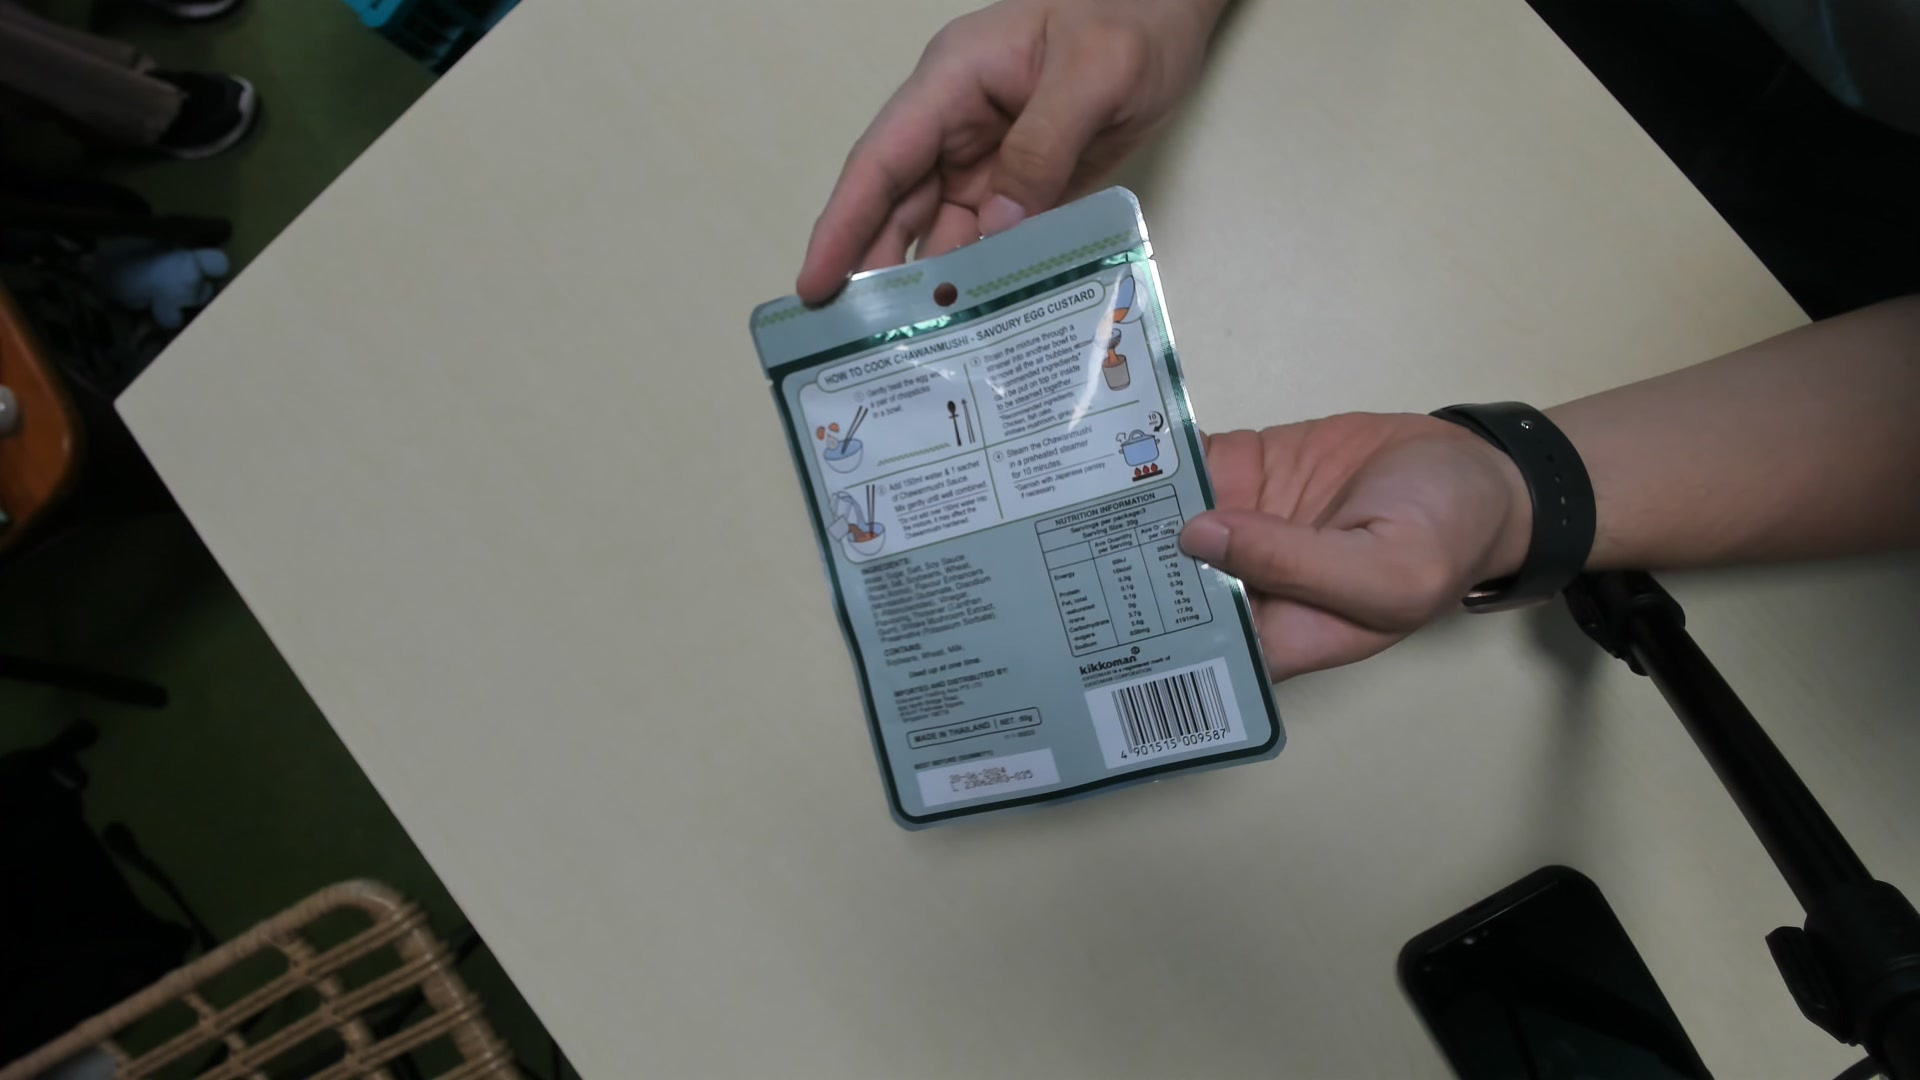OtherSauceDressing_0-99g_NonHalal_NonHealthy: (744, 189, 1292, 839)
